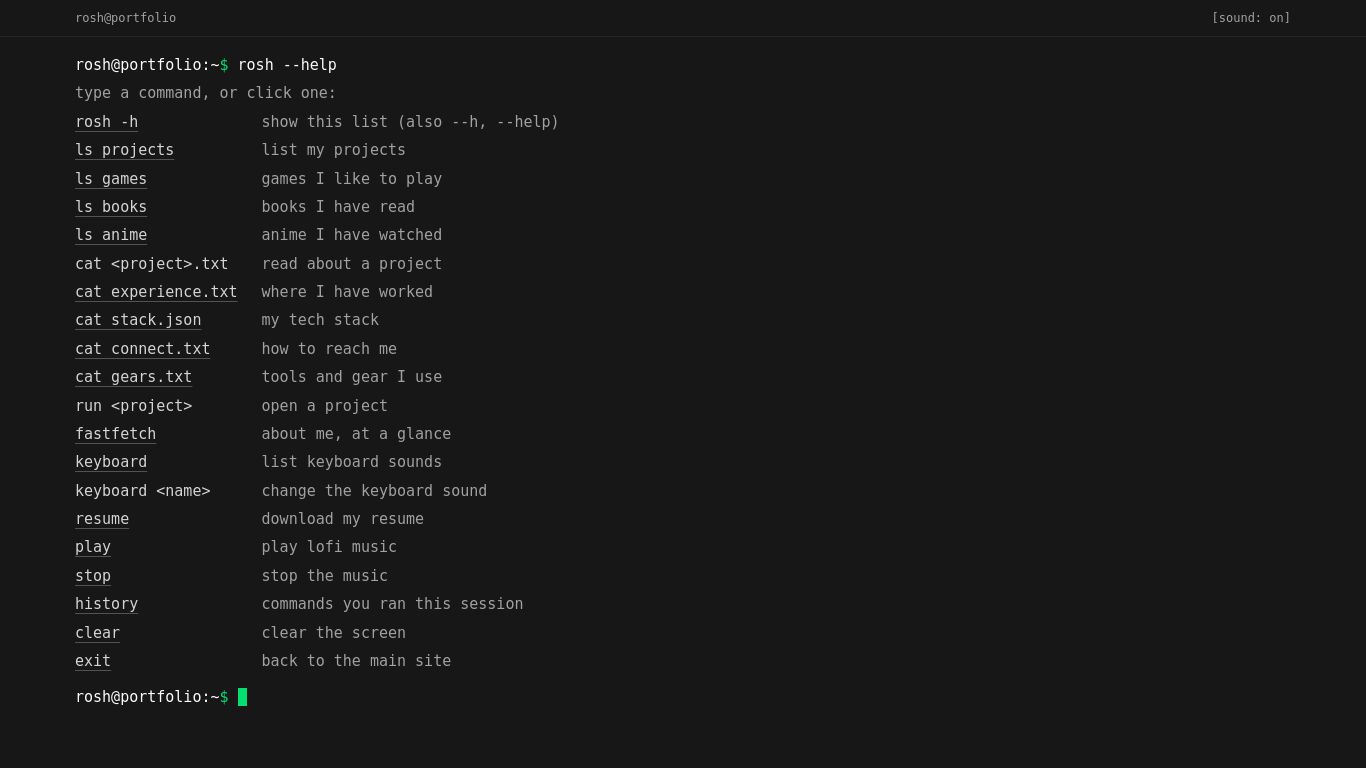
Test: lofi and the status bar › play starts the track and shows it in the status bar; stop clears it
Replace the text in the field named "Terminal command input" with "play" at (161, 697), box [75,688,247,706]
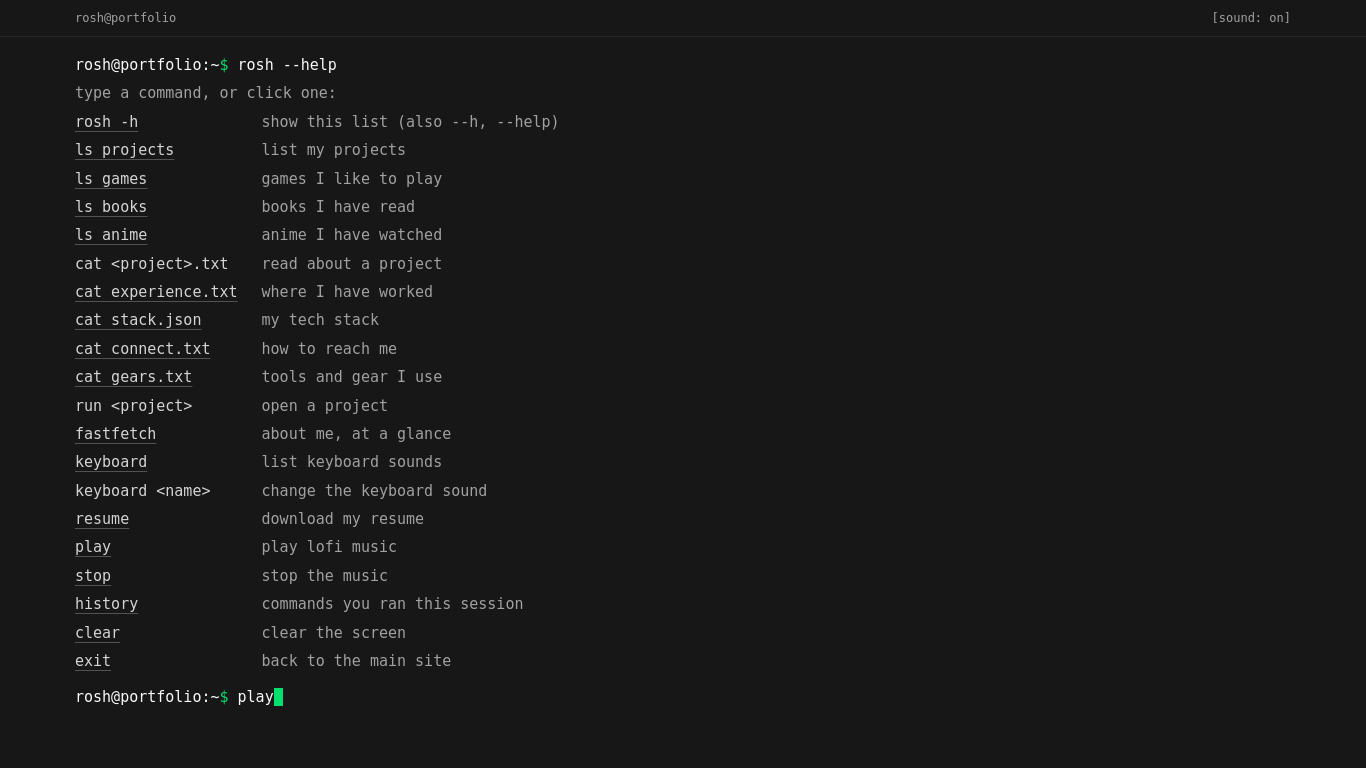
Press Enter in the field named "Terminal command input", box [75,688,283,706]
Wait 3000 ms
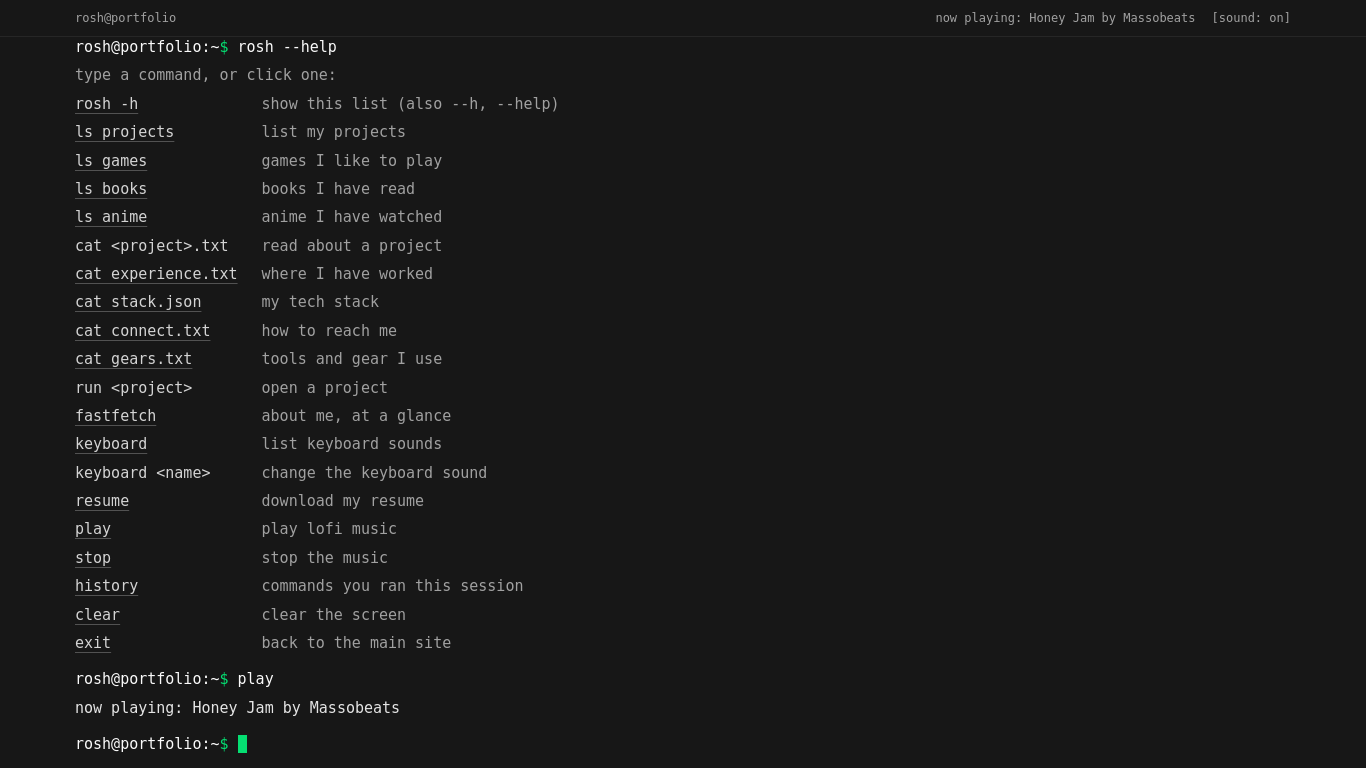
Check: the header shows "now playing: Honey Jam by Massobeats", box [0,0,1365,37]
Replace the text in the field named "Terminal command input" with "stop" at (161, 744), box [75,735,247,753]
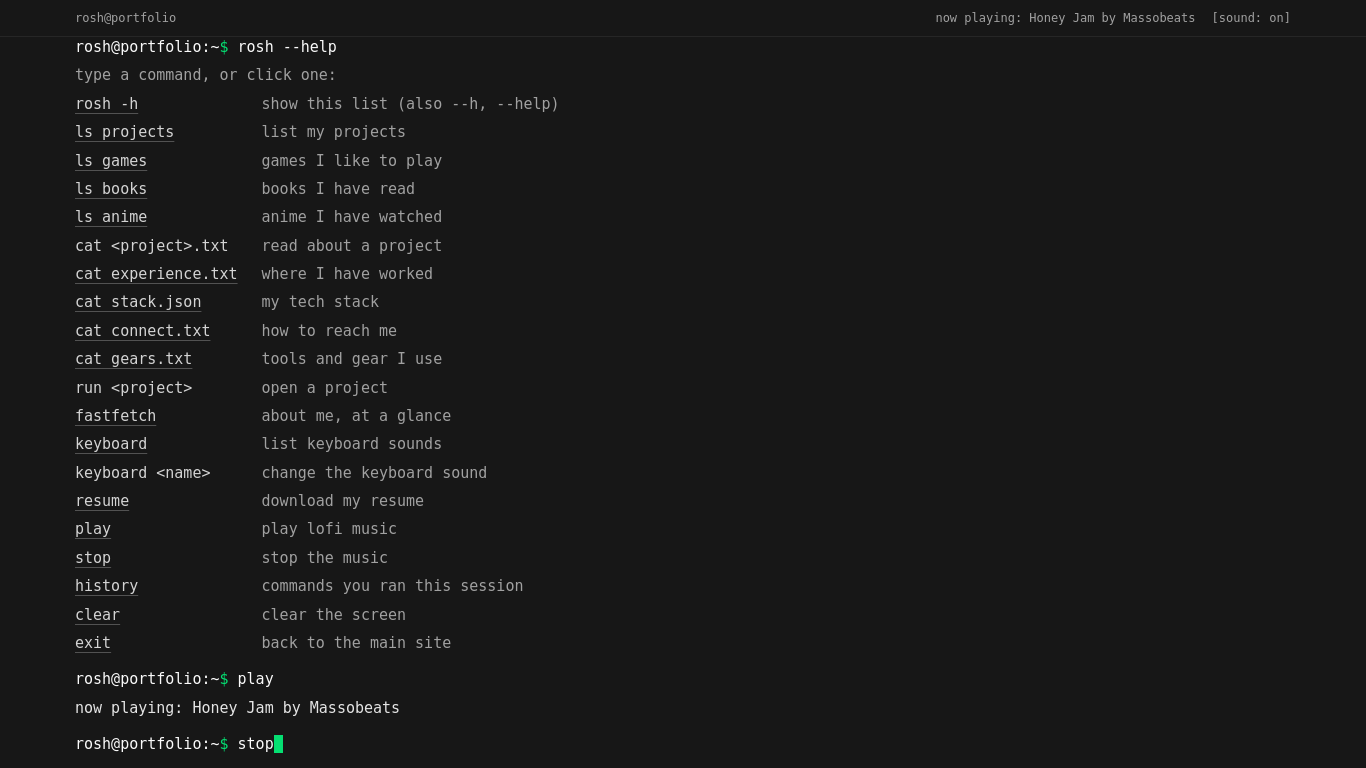
Press Enter in the field named "Terminal command input", box [75,735,283,753]
Wait 3000 ms
(page scrolled)
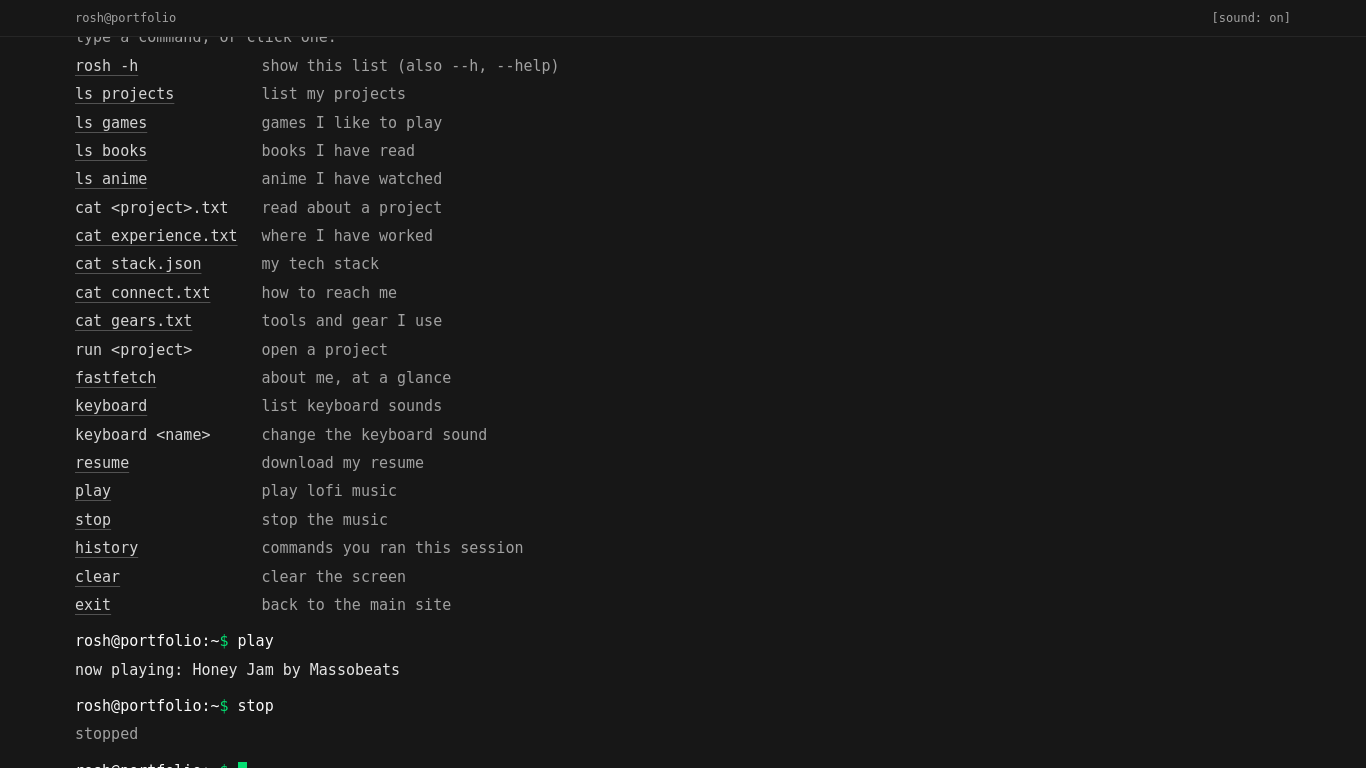
Check: the header no longer shows "now playing"
